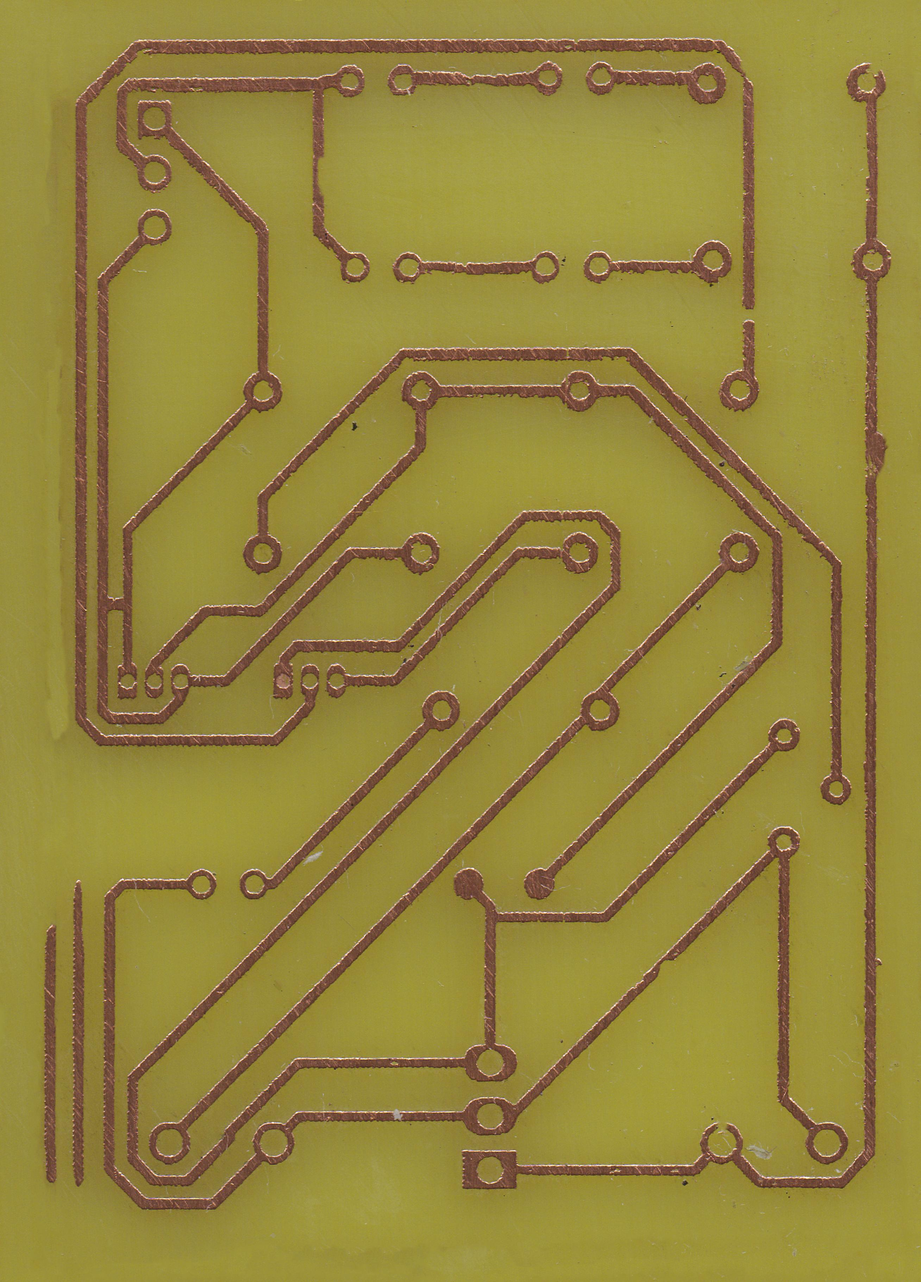missing_hole: (698, 1119, 748, 1168), (845, 61, 889, 106)
mouse_bite: (310, 153, 328, 200), (459, 67, 491, 90), (653, 953, 677, 979)
open_circuit: (738, 298, 760, 334)
short: (94, 591, 135, 617)
spur: (867, 426, 892, 479)
spurious_copper: (67, 874, 90, 1193), (36, 920, 62, 1187)
